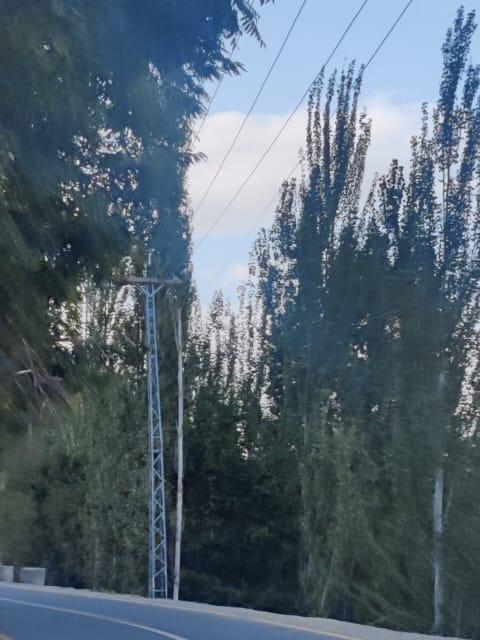left_turn: (0, 528, 221, 640)
